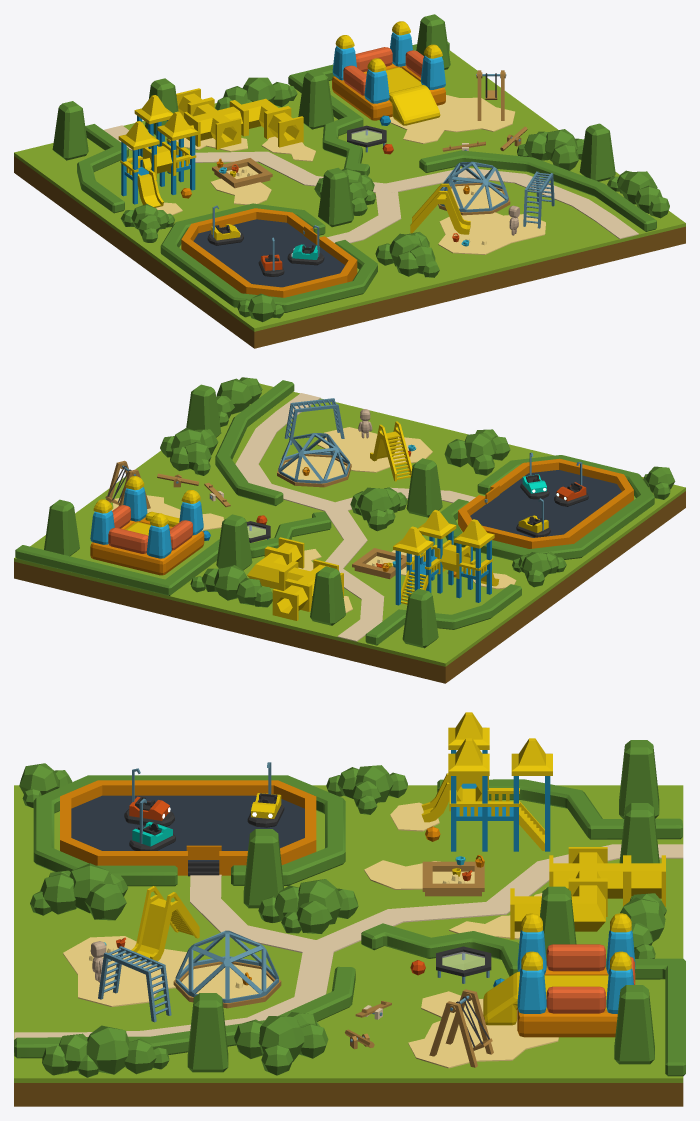
Rendered from playground.glb.
The picture shows the model from 3 angles, top to bottom: view 1: azimuth 30°, elevation 25°; view 2: azimuth 150°, elevation 25°; view 3: azimuth 270°, elevation 25°; orthographic projection. The views are drawn at different scales.
Visible parts, largest first — view 1: Box029_green_0, Line007_green5_0, Box029_dirt_0, Box16950_asphalt_0, Line002_concrete_0, Box16950_orange_0, Box16938_yellow_0, Box16946_yellow_0, Line010_sand_0, Line004_sand_0, Box16946_blue6_0, Box16943_yellow_0 (+26 smaller); view 2: Box029_green_0, Line007_green5_0, Box029_dirt_0, Line002_concrete_0, Box16950_asphalt_0, Box16950_orange_0, Box16938_yellow_0, Box16938_blue_0, Box16946_blue6_0, Line004_sand_0, Box16946_orange_0, Box16971_green5_0 (+27 smaller); view 3: Box029_green_0, Line007_green5_0, Box029_dirt_0, Box16950_asphalt_0, Box16950_orange_0, Line002_concrete_0, Box16938_yellow_0, Box16967_green5_0, Line010_sand_0, Line004_sand_0, Box16960_green5_0, Box16951_green5_0 (+31 smaller).
Part boxes in pixels (left/top/right/bottom): Box029_green_0: left=14, top=50, right=685, bottom=331; Line007_green5_0: left=77, top=42, right=656, bottom=312; Box029_dirt_0: left=14, top=156, right=685, bottom=348; Box16950_asphalt_0: left=193, top=219, right=344, bottom=287; Line002_concrete_0: left=104, top=125, right=638, bottom=238; Box16950_orange_0: left=181, top=208, right=357, bottom=297; Box16938_yellow_0: left=118, top=95, right=197, bottom=207; Box16946_yellow_0: left=335, top=21, right=442, bottom=125; Line010_sand_0: left=389, top=95, right=515, bottom=143; Line004_sand_0: left=438, top=212, right=545, bottom=254; Box16946_blue6_0: left=332, top=32, right=445, bottom=103; Box16943_yellow_0: left=184, top=98, right=246, bottom=149; Box029_green_0: left=14, top=383, right=685, bottom=666; Line007_green5_0: left=15, top=380, right=654, bottom=645; Box029_dirt_0: left=14, top=491, right=685, bottom=683; Line002_concrete_0: left=235, top=393, right=384, bottom=641; Box16950_asphalt_0: left=470, top=470, right=621, bottom=537; Box16950_orange_0: left=458, top=458, right=633, bottom=548; Box16938_yellow_0: left=393, top=510, right=499, bottom=604; Box16938_blue_0: left=395, top=531, right=491, bottom=605; Box16946_blue6_0: left=90, top=487, right=203, bottom=558; Line004_sand_0: left=317, top=427, right=432, bottom=472; Box16946_orange_0: left=90, top=517, right=204, bottom=575; Box16971_green5_0: left=190, top=565, right=272, bottom=607; Box029_green_0: left=14, top=785, right=683, bottom=1082; Line007_green5_0: left=14, top=775, right=685, bottom=1076; Box029_dirt_0: left=14, top=1083, right=683, bottom=1106; Box16950_asphalt_0: left=71, top=795, right=304, bottom=861; Box16950_orange_0: left=60, top=780, right=316, bottom=875; Line002_concrete_0: left=14, top=844, right=683, bottom=1039; Box16938_yellow_0: left=421, top=712, right=552, bottom=850; Box16967_green5_0: left=42, top=1025, right=169, bottom=1077; Line010_sand_0: left=408, top=991, right=558, bottom=1068; Line004_sand_0: left=63, top=936, right=188, bottom=1007; Box16960_green5_0: left=234, top=1012, right=328, bottom=1075; Box16951_green5_0: left=30, top=863, right=128, bottom=920.
Size of the model in its own units: 26.83 by 5.63 by 25.89.
